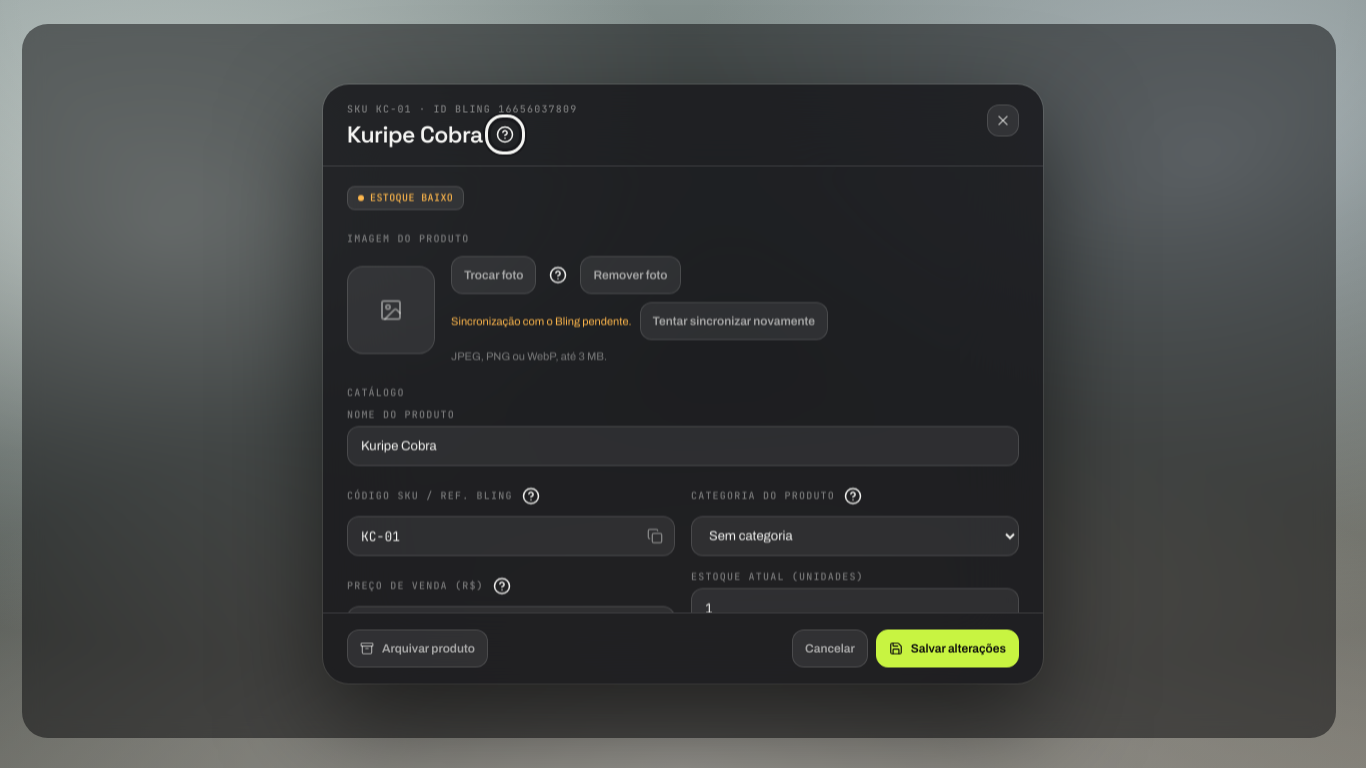
Test case: ProductDetailModal — o botão de arquivar › clicar não arquiva: abre a confirmação no mesmo modal, com o nome, o SKU e o ID Bling
The width and height of the screenshot is (1366, 768).
Click the button "Arquivar produto". click: coordinates (417, 648)
box: [347,630,488,668]
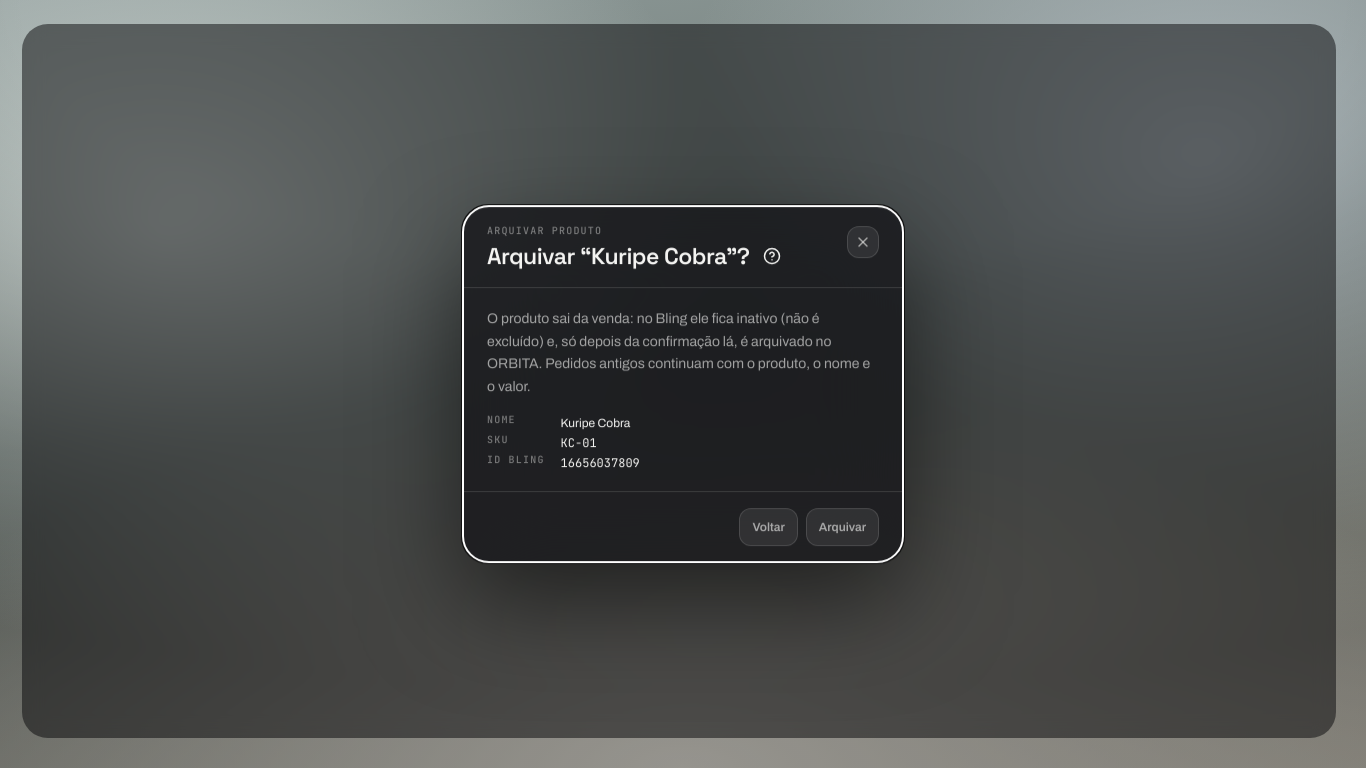
Expected: the number of dialogs is 1, [463,206,903,562]
Result: the heading "Arquivar “Kuripe Cobra”?" is shown at [487,242,750,271]
Result: the button "Salvar alterações" is gone
